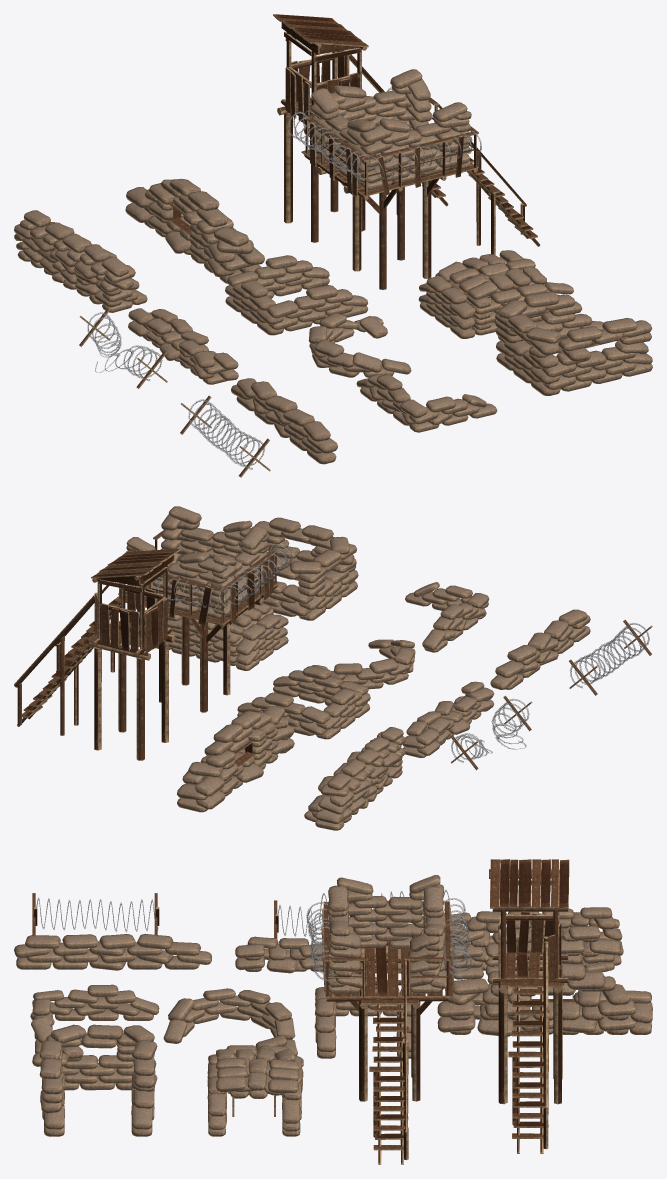
Rendered from sandbags_defense_line.glb.
3 views of the same model, one above another, from view 1: azimuth 30°, elevation 25°; view 2: azimuth 150°, elevation 25°; view 3: azimuth 270°, elevation 25° (orthographic). The views are drawn at different scales.
Visible parts, largest first — view 1: Sandbags_Defencetower, Sandbags_Cover_5, Sandbags_Watchtower, Sandbags_Cover_4, Sandbags_Storage, Sandbags_Cover_3, Sandbags_Line_3, Sandbags_Line_2, Sandbags_Cover_1, Sandbags_Line_1, Sandbags_Cover_2, Sandbags_Wire (+1 smaller); view 2: Sandbags_Defencetower, Sandbags_Watchtower, Sandbags_Cover_5, Sandbags_Cover_4, Sandbags_Cover_3, Sandbags_Line_3, Sandbags_Storage, Sandbags_Line_2, Sandbags_Line_1, Sandbags_Cover_1, Sandbags_Cover_2, Sandbags_Wire (+1 smaller); view 3: Sandbags_Defencetower, Sandbags_Watchtower, Sandbags_Cover_4, Sandbags_Cover_5, Sandbags_Line_3, Sandbags_Storage, Sandbags_Line_1, Sandbags_Cover_2, Sandbags_Cover_1, Sandbags_Line_2, Sandbags_Cover_3, Sandbags_Wire (+1 smaller).
Part boxes in pixels (left/top/right/bottom): Sandbags_Defencetower: left=287, top=69, right=540, bottom=289; Sandbags_Cover_5: left=495, top=291, right=652, bottom=395; Sandbags_Watchtower: left=273, top=14, right=448, bottom=242; Sandbags_Cover_4: left=125, top=178, right=264, bottom=283; Sandbags_Storage: left=418, top=250, right=573, bottom=338; Sandbags_Cover_3: left=225, top=255, right=367, bottom=335; Sandbags_Line_3: left=14, top=210, right=147, bottom=312; Sandbags_Line_2: left=128, top=308, right=238, bottom=384; Sandbags_Cover_1: left=356, top=374, right=497, bottom=432; Sandbags_Line_1: left=231, top=378, right=337, bottom=464; Sandbags_Cover_2: left=308, top=313, right=411, bottom=377; Sandbags_Wire: left=180, top=395, right=270, bottom=477; Sandbags_Defencetower: left=55, top=506, right=292, bottom=712; Sandbags_Watchtower: left=14, top=549, right=180, bottom=760; Sandbags_Cover_5: left=255, top=517, right=358, bottom=620; Sandbags_Cover_4: left=177, top=706, right=294, bottom=812; Sandbags_Cover_3: left=237, top=666, right=370, bottom=739; Sandbags_Line_3: left=304, top=727, right=405, bottom=830; Sandbags_Storage: left=155, top=603, right=288, bottom=670; Sandbags_Line_2: left=402, top=681, right=494, bottom=757; Sandbags_Line_1: left=490, top=609, right=590, bottom=689; Sandbags_Cover_1: left=405, top=582, right=489, bottom=652; Sandbags_Cover_2: left=312, top=639, right=415, bottom=689; Sandbags_Wire: left=569, top=619, right=652, bottom=695; Sandbags_Defencetower: left=306, top=875, right=471, bottom=1164; Sandbags_Watchtower: left=489, top=859, right=569, bottom=1153; Sandbags_Cover_4: left=437, top=962, right=652, bottom=1036; Sandbags_Cover_5: left=32, top=1024, right=157, bottom=1136; Sandbags_Line_3: left=449, top=907, right=623, bottom=979; Sandbags_Storage: left=207, top=1045, right=303, bottom=1136; Sandbags_Line_1: left=14, top=933, right=211, bottom=970; Sandbags_Cover_2: left=163, top=988, right=297, bottom=1055; Sandbags_Cover_1: left=30, top=984, right=159, bottom=1053; Sandbags_Line_2: left=235, top=936, right=400, bottom=973; Sandbags_Cover_3: left=314, top=977, right=411, bottom=1058; Sandbags_Wire: left=32, top=893, right=159, bottom=935.
Bounding box in the file's own units: 35.18 × 15.05 × 39.71.
1 material, 1 textured.
